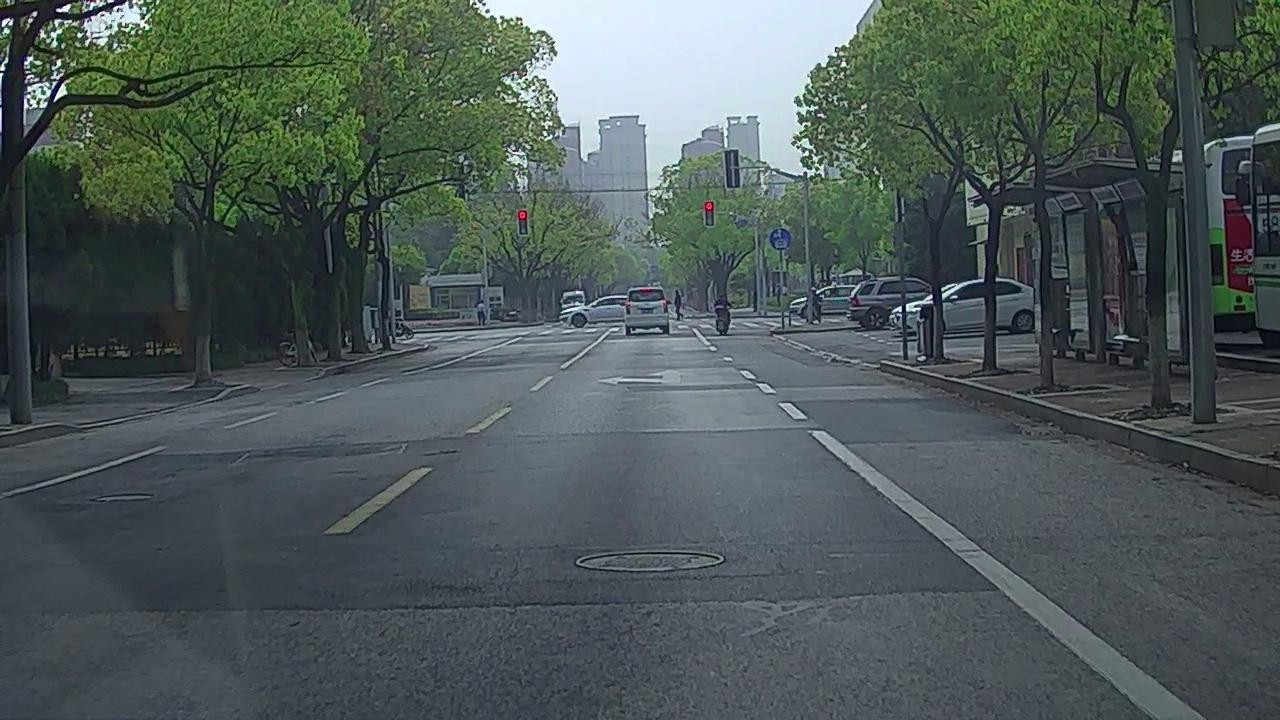traffic_light: (703, 203, 715, 226), (519, 210, 528, 234)
